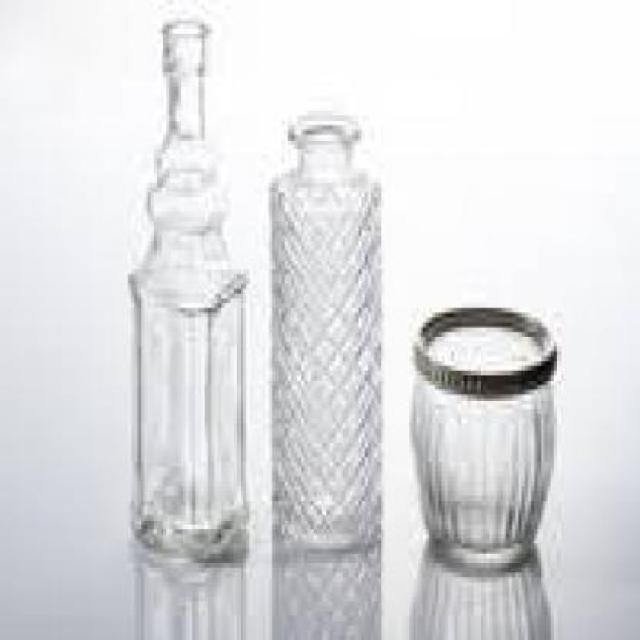kaca: (125, 9, 249, 558), (266, 111, 382, 549), (409, 303, 554, 568)
